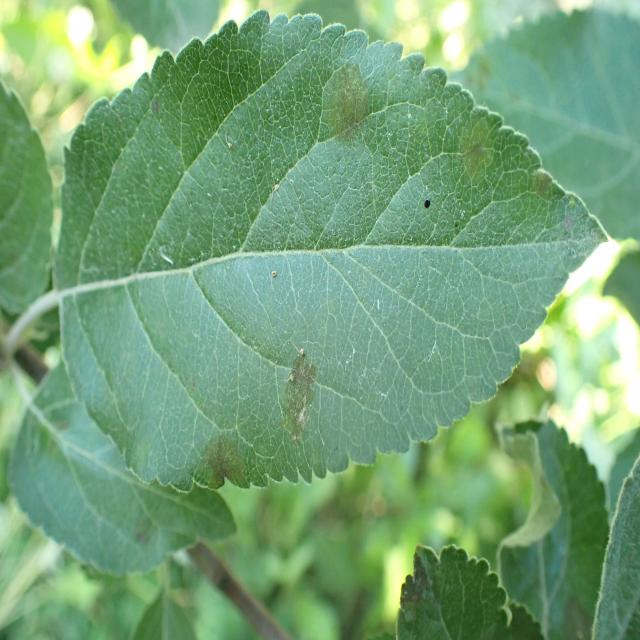scab: (149, 296, 342, 524), (434, 70, 588, 218), (325, 26, 393, 164)
